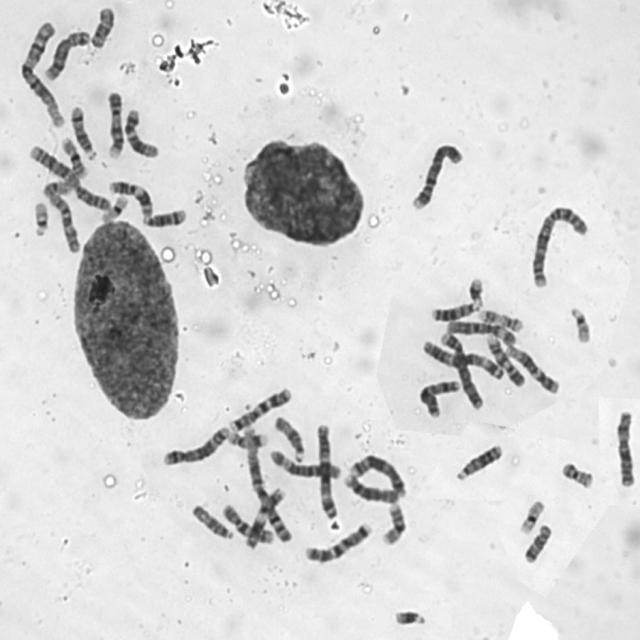A1: (242, 425, 293, 544), (18, 19, 68, 130)
A2: (26, 142, 112, 212), (526, 202, 590, 290)
A3: (419, 336, 505, 381), (314, 420, 338, 520)
B4: (408, 139, 466, 213), (438, 329, 484, 411)
B5: (160, 423, 232, 468), (344, 451, 408, 500)
C10: (219, 500, 274, 544), (46, 186, 82, 253)
C11: (242, 484, 286, 550), (106, 177, 154, 218)
C12: (504, 341, 562, 396), (123, 105, 161, 160)
C6: (267, 446, 342, 481), (444, 317, 519, 347)
C7: (302, 519, 373, 564), (226, 385, 292, 433)
C8: (42, 27, 92, 83), (341, 471, 403, 503)
C9: (484, 331, 526, 388), (105, 88, 125, 160)
D13: (454, 441, 504, 482), (428, 298, 481, 322)
D14: (68, 103, 98, 161), (140, 205, 189, 228)
D15: (188, 501, 235, 542), (272, 412, 307, 463)
E16: (58, 134, 88, 179), (379, 500, 407, 546)
E17: (477, 306, 525, 333), (225, 431, 269, 449)
E18: (521, 522, 553, 564), (88, 4, 116, 49)
F19: (517, 496, 546, 535), (100, 193, 130, 222)
F20: (557, 458, 596, 490), (40, 178, 74, 198)
G21: (391, 604, 428, 628), (466, 274, 486, 308)
G22: (567, 302, 592, 346), (30, 200, 50, 238)
X: (414, 377, 461, 420), (613, 406, 637, 488)
